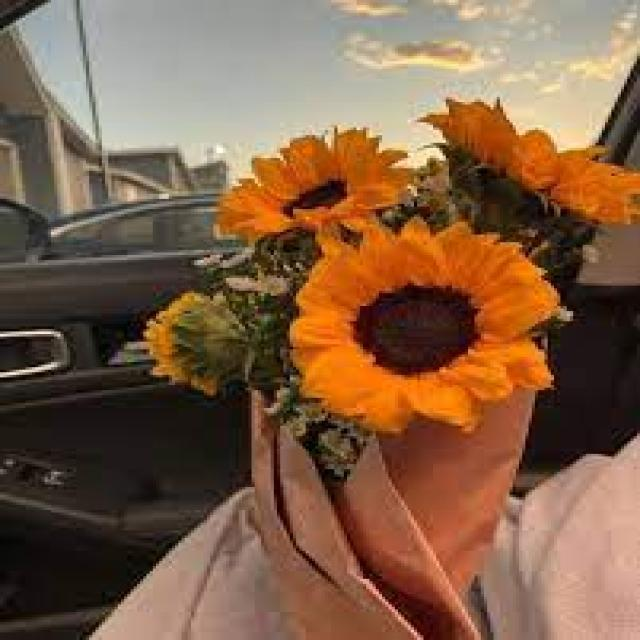sunflower: (288, 214, 560, 434), (416, 94, 636, 222), (213, 126, 411, 245), (140, 290, 217, 396)
